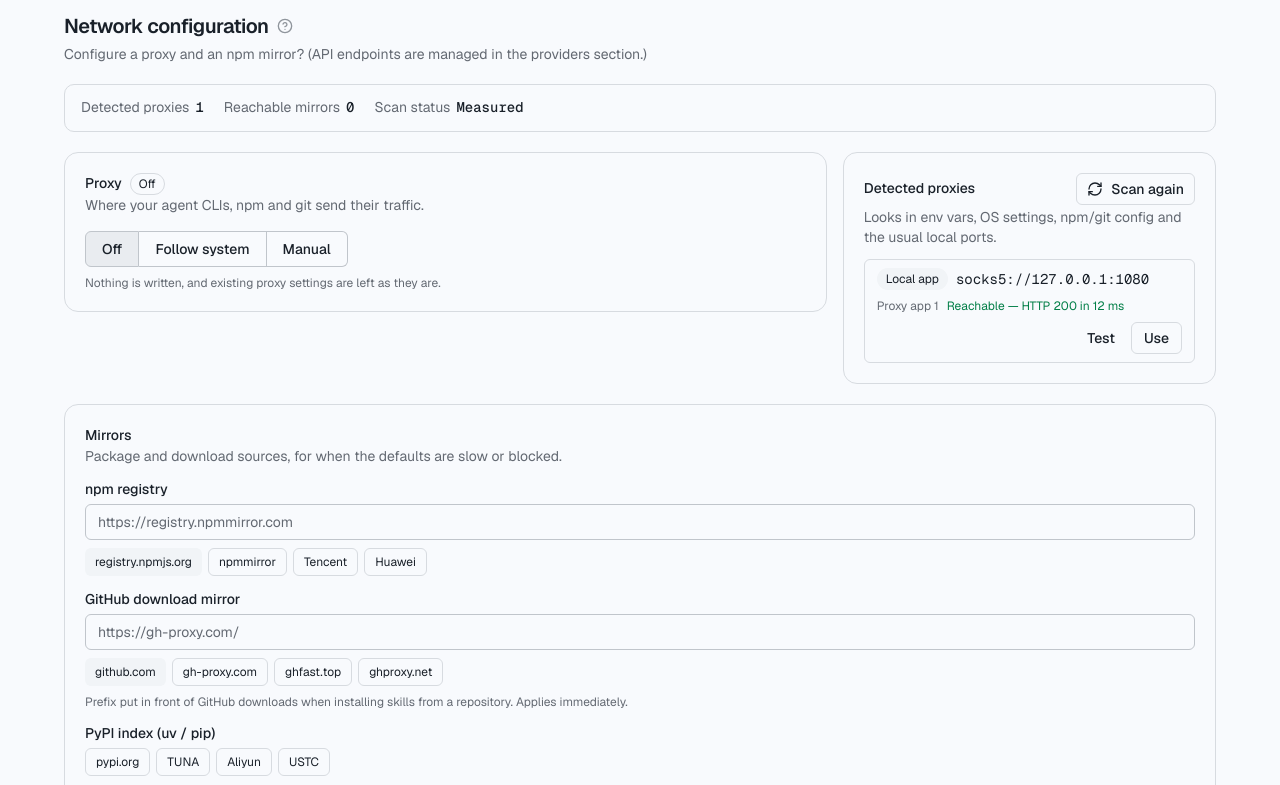
Scenario: sends a SOCKS candidate to ALL_PROXY rather than the http fields
Click the button "Use" at [1156, 338], box [1131,322,1182,354]
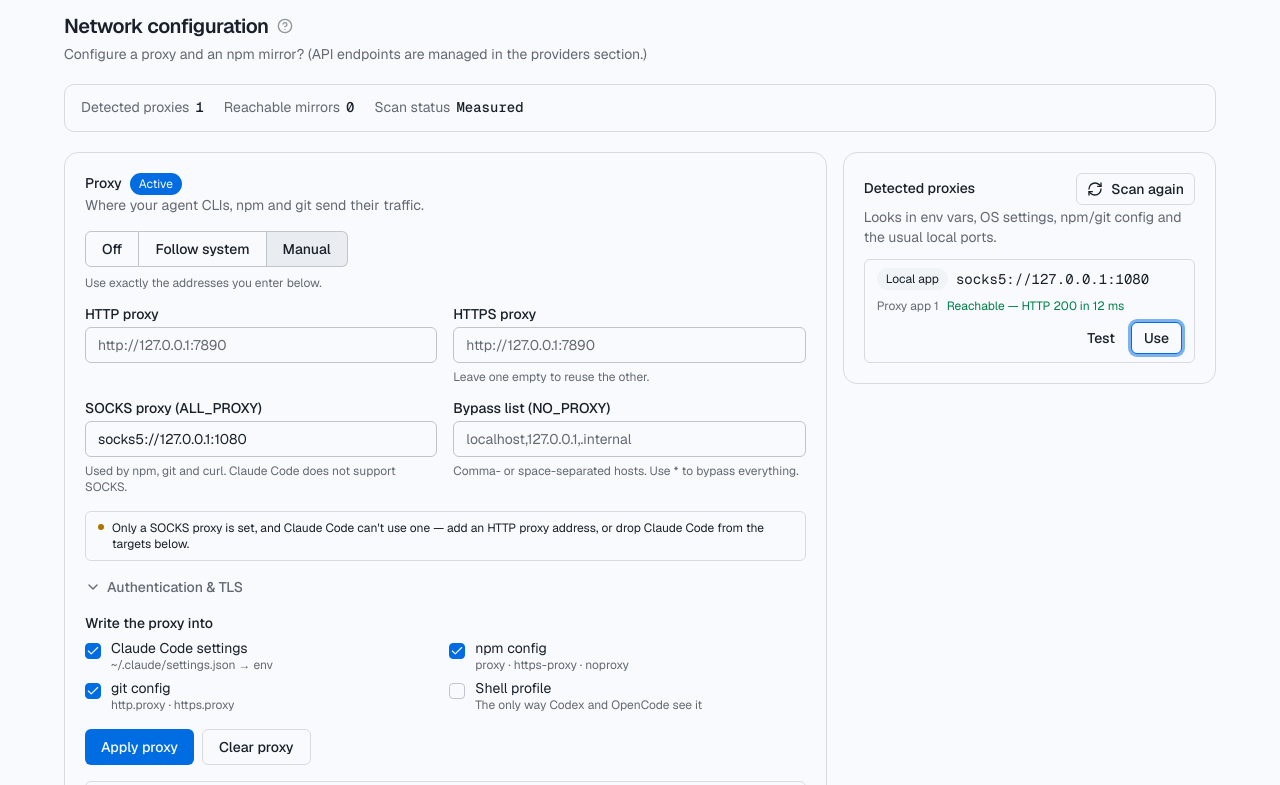
Expected: the text "socks5://127.0.0.1:1080" is shown, [956,269,1149,289]
Result: the text "Only a SOCKS proxy is set, and Claude Code can't use one — add an HTTP proxy address, or drop Claude Code from the targe" is shown at [112,520,764,552]
